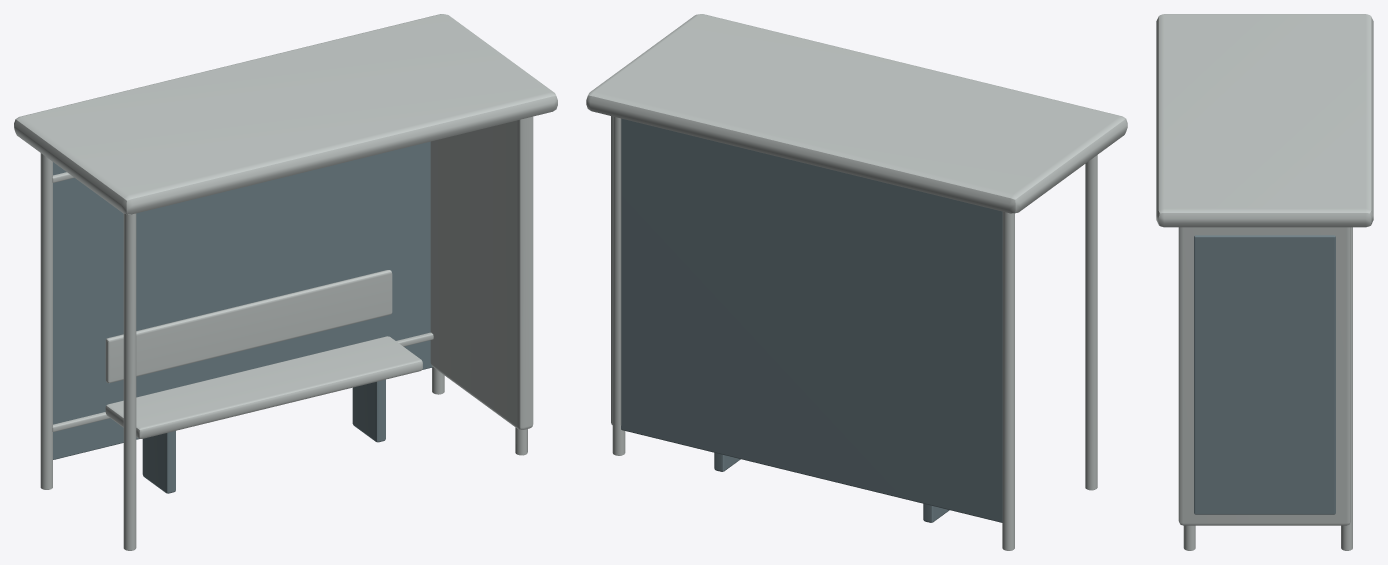
File: bus-shelter-ad.glb
3 views of the same model, side by side, from view 1: azimuth 30°, elevation 25°; view 2: azimuth 150°, elevation 25°; view 3: azimuth 270°, elevation 25° (orthographic). The views are drawn at different scales.
Visible parts, largest first — view 1: rear_glass, roof, ad_cabinet, bench_back, bench, corner_post.001, corner_post, bench_leg.001, bench_leg, rear_rail; view 2: rear_glass, roof, corner_post, corner_post.001, corner_post.002, ad_cabinet; view 3: roof, ad_panel, ad_cabinet, corner_post.002, corner_post.003.
Part boxes in pixels (box(x1,y1,x2,y2)): rear_glass: box(53, 141, 432, 459); roof: box(14, 14, 557, 214); ad_cabinet: box(430, 116, 533, 429); bench_back: box(105, 270, 392, 382); bench: box(105, 336, 422, 438); corner_post.001: box(123, 213, 136, 550); corner_post: box(40, 153, 52, 489); bench_leg.001: box(352, 379, 385, 442); bench_leg: box(142, 431, 175, 493); rear_rail: box(52, 332, 433, 431); rear_glass: box(621, 118, 1002, 522); roof: box(586, 14, 1127, 213); corner_post: box(1002, 211, 1014, 550); corner_post.001: box(1085, 155, 1097, 490); corner_post.002: box(612, 116, 625, 455); ad_cabinet: box(611, 116, 621, 425); roof: box(1156, 14, 1373, 227); ad_panel: box(1194, 235, 1335, 514); ad_cabinet: box(1178, 227, 1350, 525); corner_post.002: box(1341, 227, 1352, 550); corner_post.003: box(1183, 525, 1195, 550).
Size of the model in its own units: 2.78 by 2.26 by 1.27.
